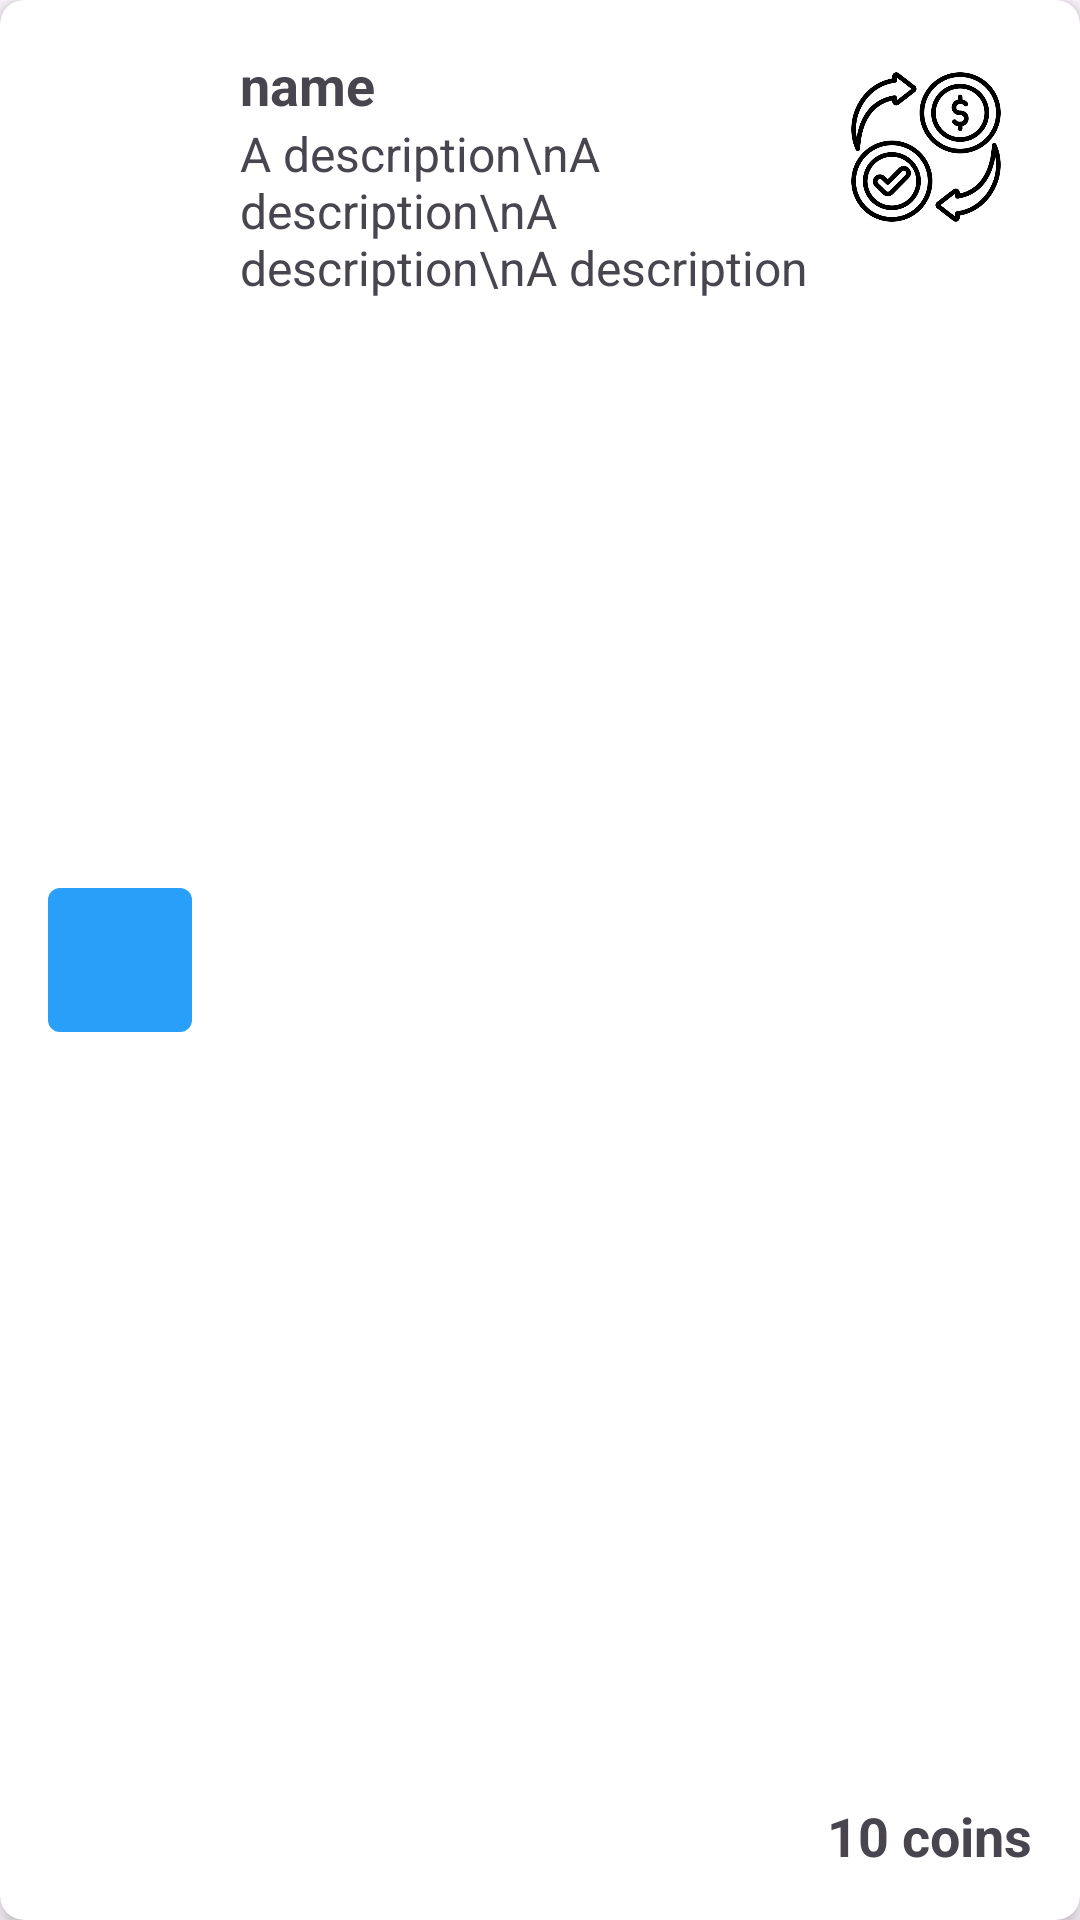

Locate icon controls on the screen. Image size 1080x1920, boxes as [x1,y1,x2,y2].
confirm purchase: [851,72,1001,222]
